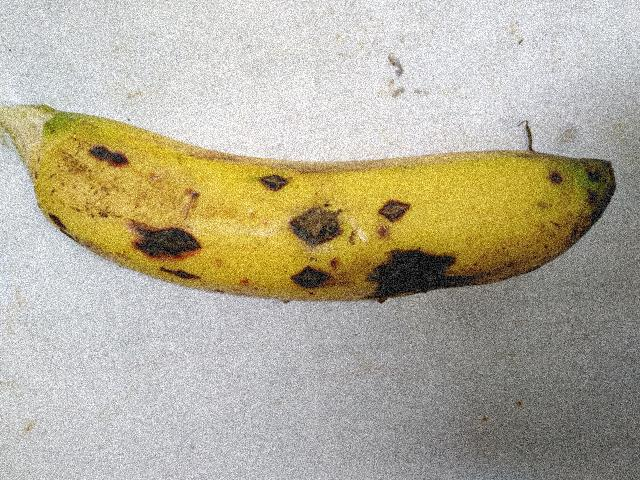rotten: (122, 210, 221, 326), (364, 231, 463, 310), (244, 155, 320, 231), (70, 113, 150, 180), (292, 188, 354, 256), (366, 168, 420, 230), (265, 265, 346, 306)
